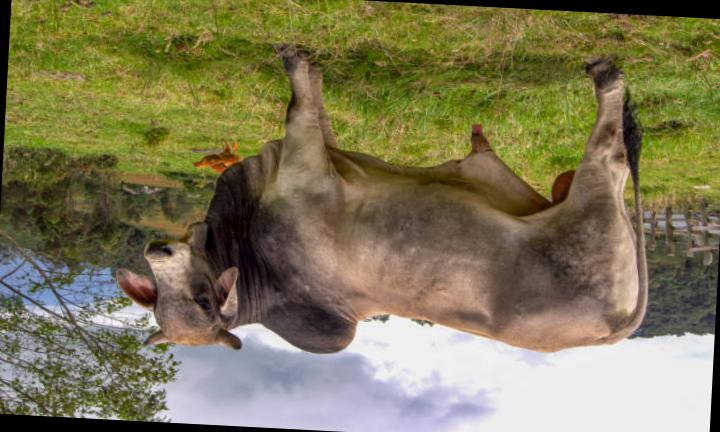Brahman: (117, 49, 645, 353)
